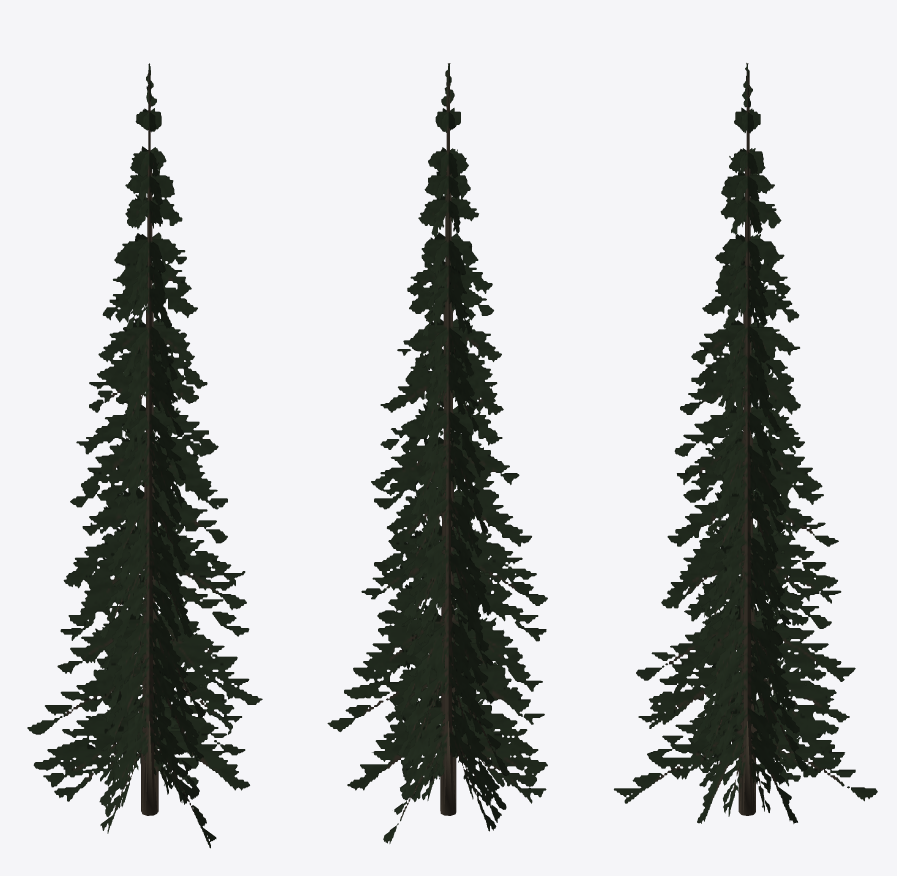
The model's file is forest-spruce_far.glb.
3 views of the same model, side by side, from view 1: azimuth 30°, elevation 25°; view 2: azimuth 150°, elevation 25°; view 3: azimuth 270°, elevation 25° (orthographic).
Parts seen in each view (by area): view 1: forest-spruce-needles, forest-bark; view 2: forest-spruce-needles, forest-bark; view 3: forest-spruce-needles, forest-bark.
Part boxes in pixels (x1,y1,x2,y2): forest-spruce-needles: [27, 63, 262, 848]; forest-bark: [141, 721, 157, 815]; forest-spruce-needles: [327, 63, 547, 843]; forest-bark: [440, 721, 456, 815]; forest-spruce-needles: [614, 63, 877, 823]; forest-bark: [739, 721, 755, 815].
Bounding box in the file's own units: 5.09 × 18 × 5.88.
2 materials, 2 textured.
